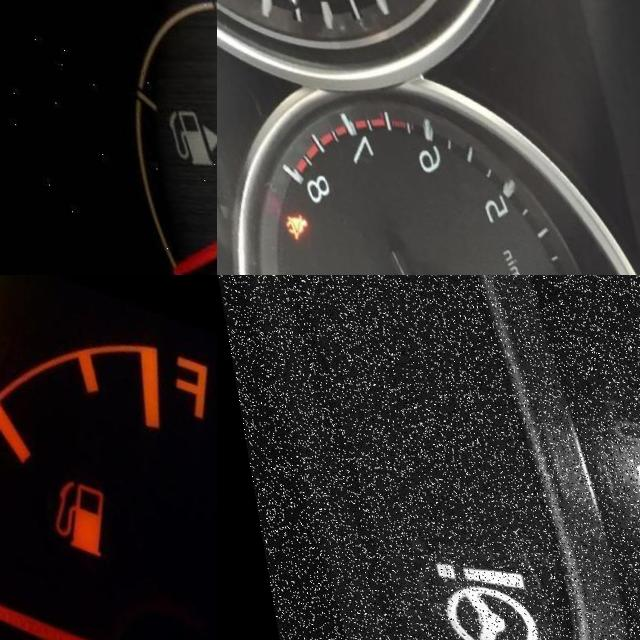Electronic Power Steering: (387, 537, 531, 640)
Seat Belt: (269, 203, 301, 241)
